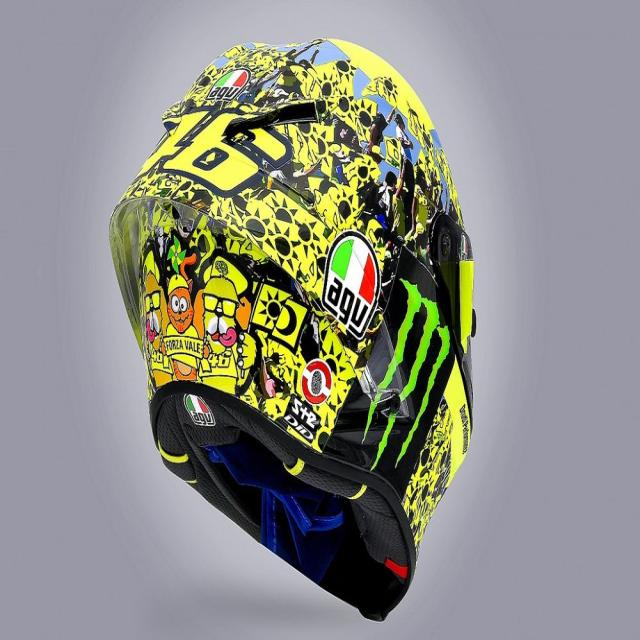Helm: (107, 28, 481, 624)
